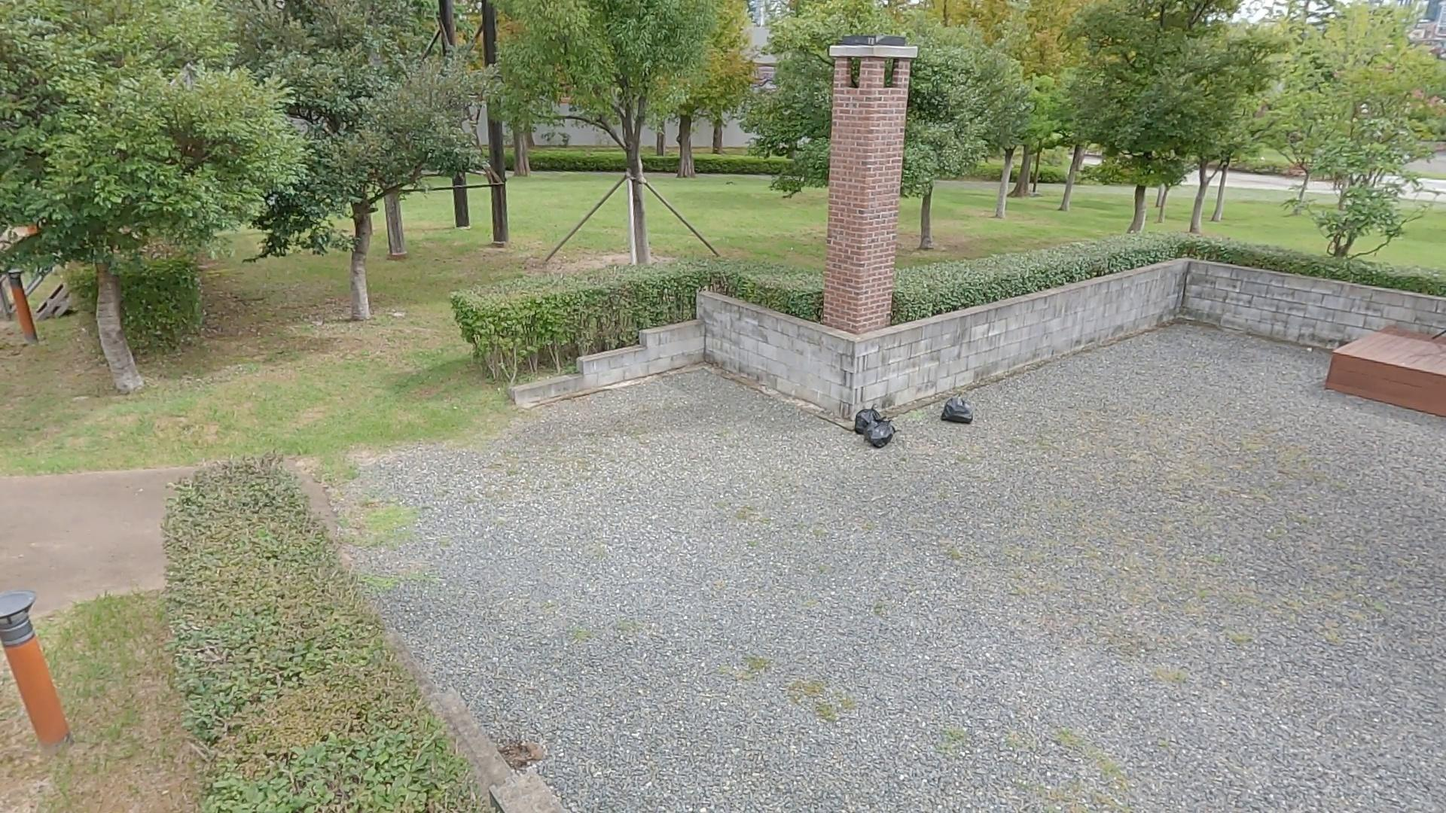trash: (853, 402, 888, 435), (863, 414, 895, 446), (939, 396, 975, 424)
